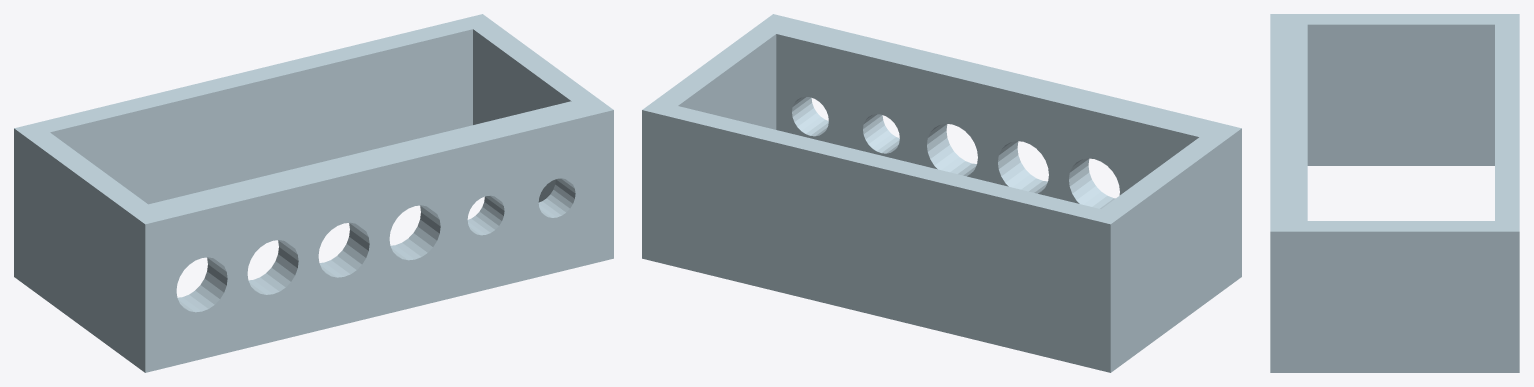
Rendered from cylinder_holder.obj.
The picture shows the model from 3 angles, left to right: view 1: azimuth 30°, elevation 25°; view 2: azimuth 150°, elevation 25°; view 3: azimuth 270°, elevation 25°; orthographic projection. The views are drawn at different scales.
Visible parts, largest first — view 1: rack_01.001; view 2: rack_01.001; view 3: rack_01.001.
Boxes of the visible parts, left/top/right/bottom form: rack_01.001: left=14, top=14, right=613, bottom=372; rack_01.001: left=642, top=14, right=1241, bottom=372; rack_01.001: left=1270, top=14, right=1519, bottom=372.
Bounding box in the file's own units: 0.165 × 0.05 × 0.08.
